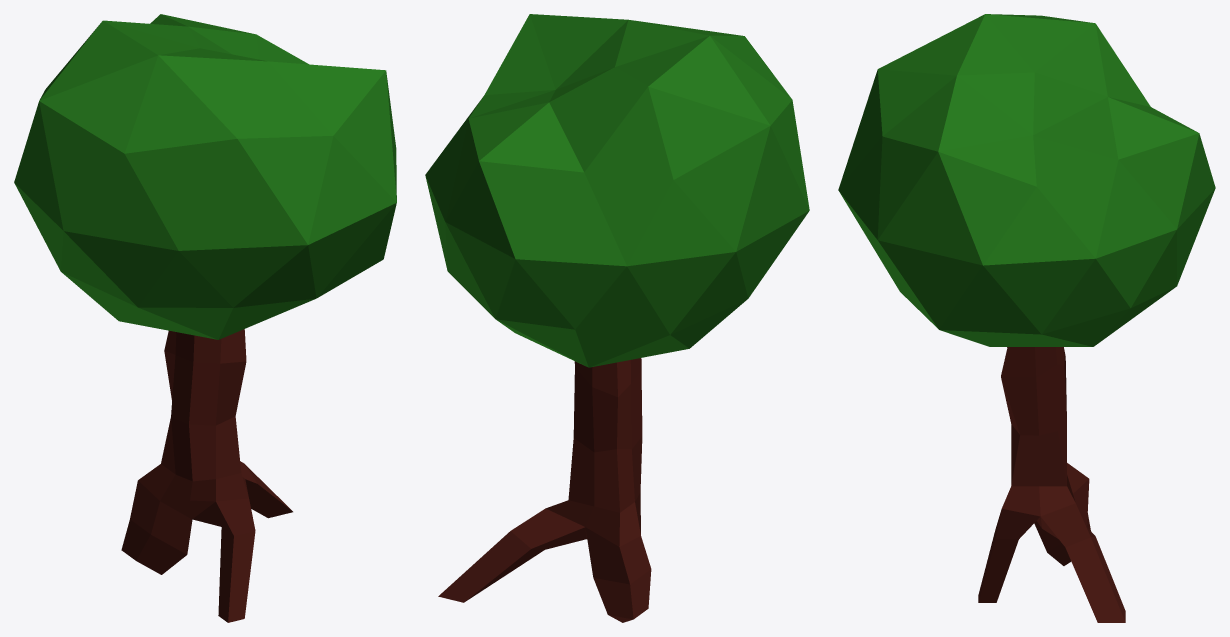
File: tree.glb
The picture shows the model from 3 angles, left to right: view 1: azimuth 30°, elevation 25°; view 2: azimuth 150°, elevation 25°; view 3: azimuth 270°, elevation 25°; orthographic projection. The views are drawn at different scales.
Parts seen in each view (by area): view 1: Tree; view 2: Tree; view 3: Tree.
Boxes of the visible parts, x1,y1,x2,y2 form: Tree: (14, 14, 396, 622); Tree: (425, 14, 809, 622); Tree: (838, 14, 1215, 622).
Bounding box in the file's own units: 13.07 × 21.76 × 13.52.
